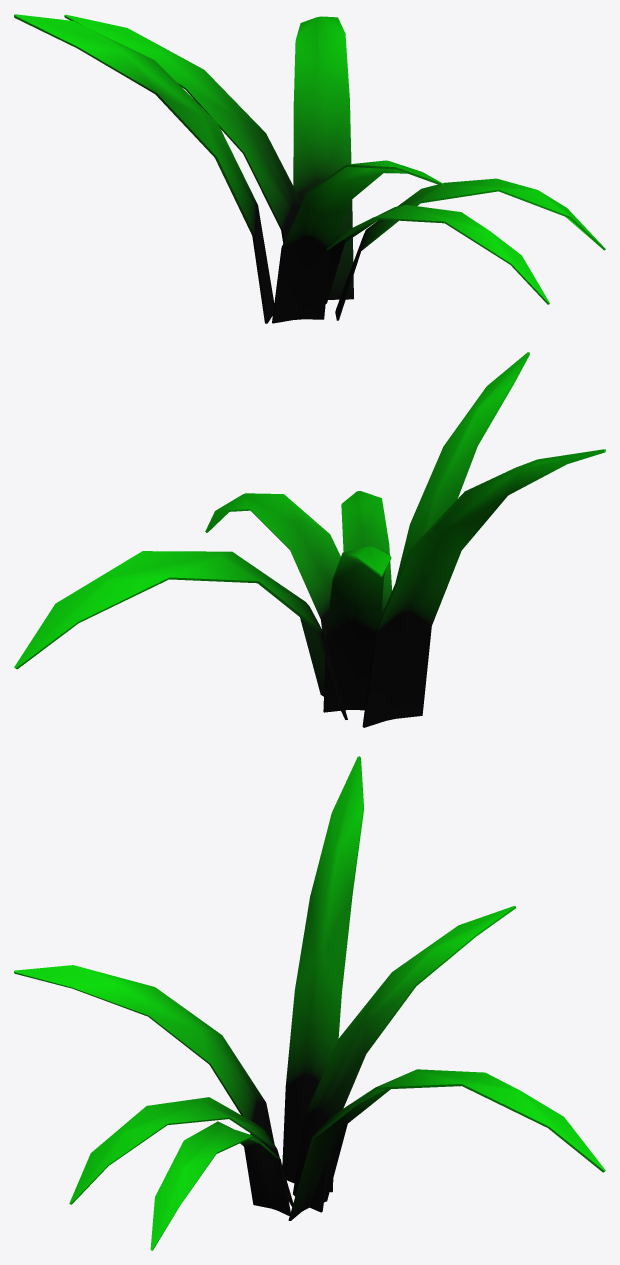
The model's file is Grass.FBX.
3 renders of one model, top to bottom at view 1: azimuth 30°, elevation 25°; view 2: azimuth 150°, elevation 25°; view 3: azimuth 270°, elevation 25°, orthographic. The views are drawn at different scales.
Visible parts, largest first — view 1: Grass_low; view 2: Grass_low; view 3: Grass_low.
Boxes of the visible parts, <box> form: Grass_low: <box>14,14,605,323</box>; Grass_low: <box>14,352,605,727</box>; Grass_low: <box>14,756,605,1250</box>.
Size of the model in its own units: 0.5246 by 0.3432 by 0.5726.
